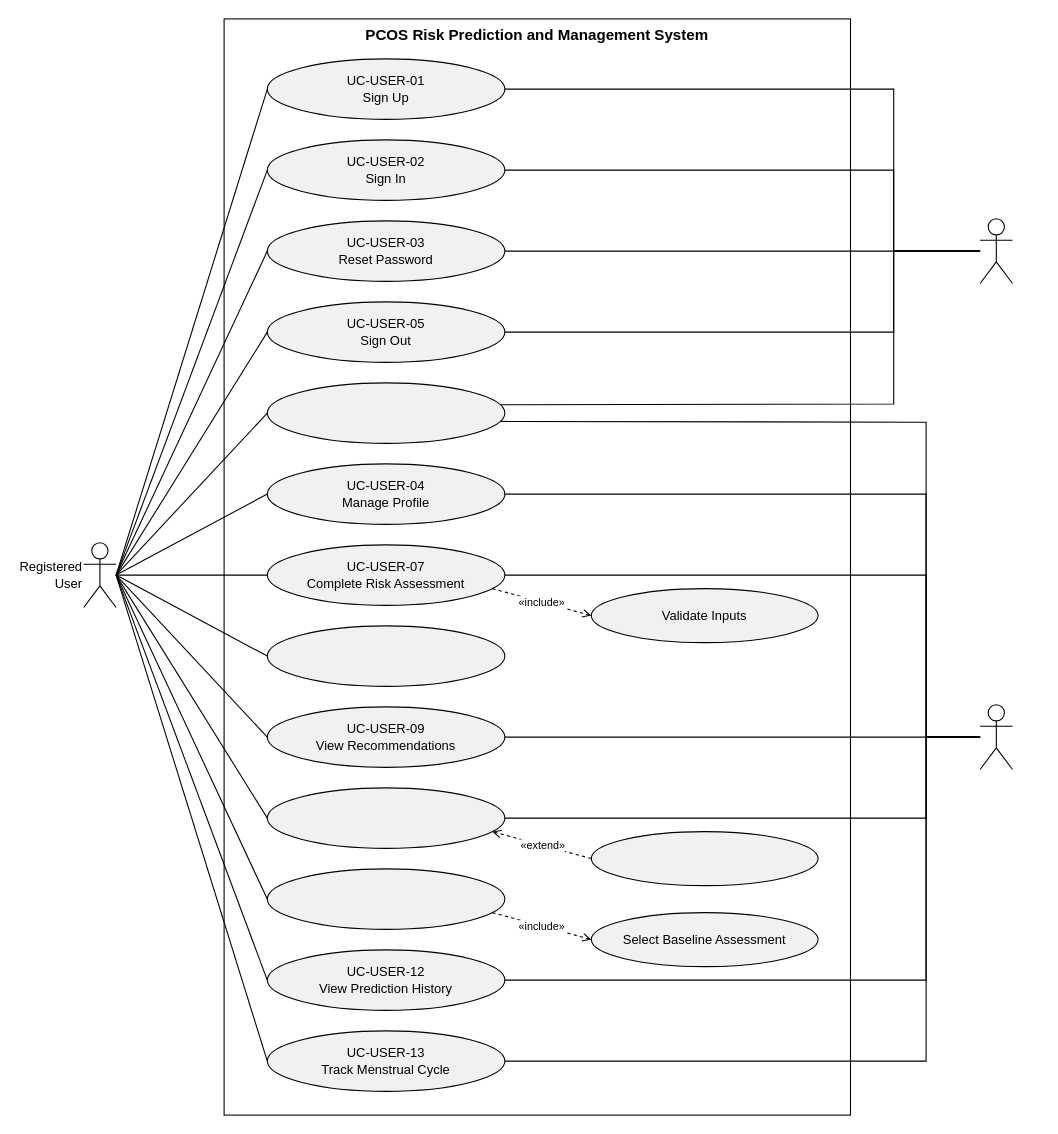
This 1058x1134 diagram has some shape labels left out. Here are the shapes that lost their labels. From the top down, the centre of each, then its label:
At [996,251]: "Firebase Authentication".
At [385,412]: "UC-USER-06 Delete Account".
At [385,655]: "UC-USER-08 View Risk Explanation".
At [996,737]: "Cloud Firestore".
At [385,817]: "UC-USER-10 Check Food GI/GL".
At [704,858]: "UC-USER-14 Scan Food Label".
At [385,898]: "UC-USER-11 Run What-If Simulation".
